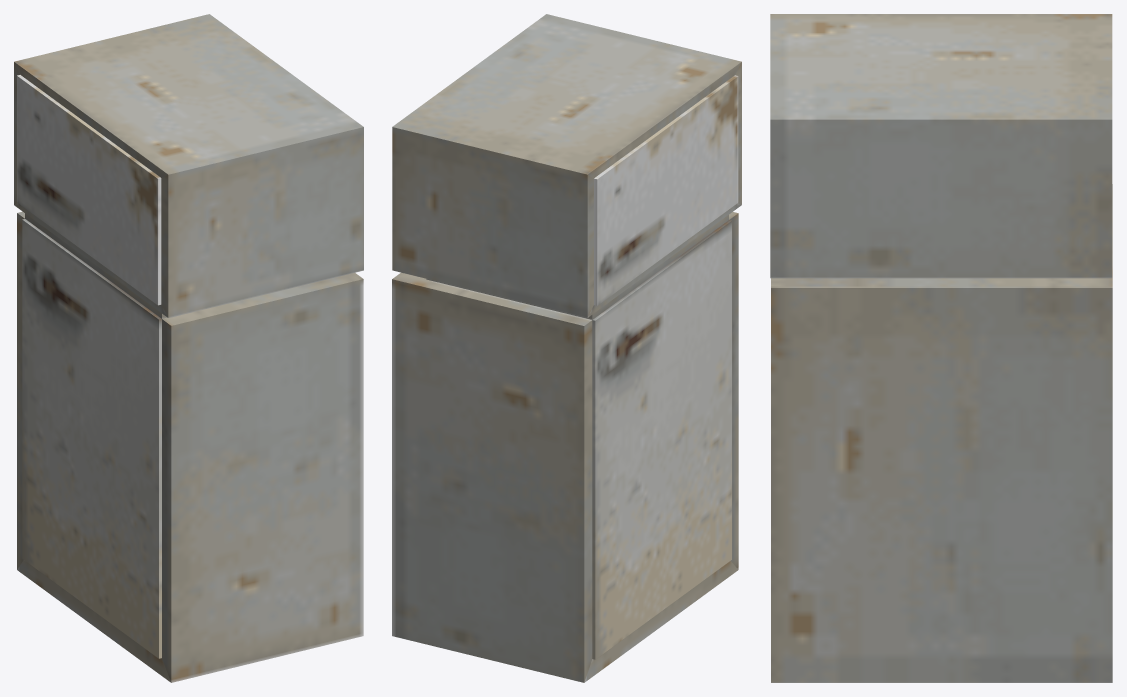
File: Fridge.fbx
3 views of the same model, side by side, from view 1: azimuth 30°, elevation 25°; view 2: azimuth 150°, elevation 25°; view 3: azimuth 270°, elevation 25° (orthographic). The views are drawn at different scales.
Visible parts, largest first — view 1: fridgeBottom, FridgeTop, FridgeBottomDoor, FridgeTopDoor; view 2: fridgeBottom, FridgeTop, FridgeBottomDoor, FridgeTopDoor; view 3: fridgeBottom, FridgeTop.
Part boxes in pixels (x1,y1,x2,y2): fridgeBottom: [17, 211, 363, 682]; FridgeTop: [14, 14, 363, 317]; FridgeBottomDoor: [22, 219, 161, 658]; FridgeTopDoor: [17, 75, 161, 305]; fridgeBottom: [392, 212, 738, 682]; FridgeTop: [392, 14, 741, 317]; FridgeBottomDoor: [592, 220, 731, 659]; FridgeTopDoor: [594, 75, 738, 305]; fridgeBottom: [771, 184, 1112, 682]; FridgeTop: [770, 14, 1112, 278].
Size of the model in its own units: 54.21 by 133 by 72.94.
